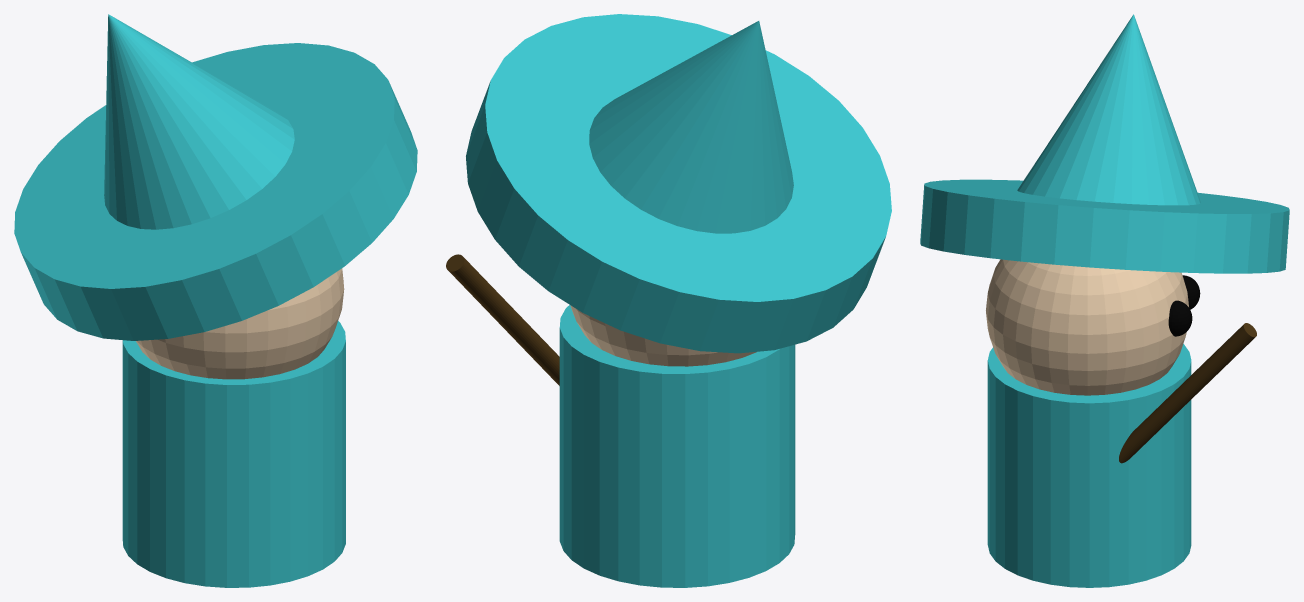
File: wizord_sky.glb
3 renders of one model, left to right at view 1: azimuth 30°, elevation 25°; view 2: azimuth 150°, elevation 25°; view 3: azimuth 270°, elevation 25°, orthographic. The views are drawn at different scales.
Parts seen in each view (by area): view 1: Cylinder.001, Cylinder, Cone, Sphere; view 2: Cylinder.001, Cylinder, Cone, Sphere, Cylinder.002; view 3: Cylinder, Cylinder.001, Sphere, Cone, Cylinder.002, Sphere.002.
Boxes of the visible parts, x1,y1,x2,y2 form: Cylinder.001: (14,43,417,340); Cylinder: (122,321,345,587); Cone: (104,14,294,229); Sphere: (136,268,344,379); Cylinder.001: (466,14,891,353); Cylinder: (559,305,795,587); Cone: (589,21,793,233); Sphere: (570,305,756,366); Cylinder.002: (446,254,559,385); Cylinder: (987,344,1191,587); Cylinder.001: (920,179,1289,273); Sphere: (986,259,1188,395); Cone: (1017,14,1200,205); Cylinder.002: (1119,323,1256,463); Sphere.002: (1168,300,1192,336).
Bounding box in the file's own units: 3.57 × 5.26 × 3.63.
